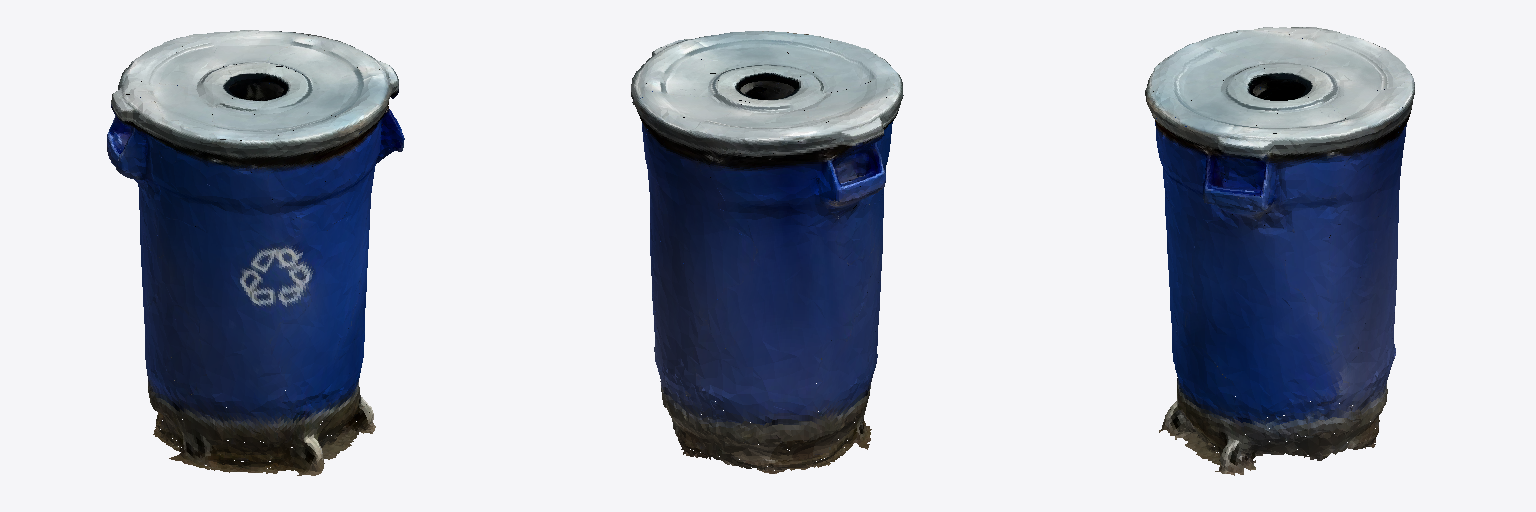
3 views of the same model, side by side, from view 1: azimuth 30°, elevation 25°; view 2: azimuth 150°, elevation 25°; view 3: azimuth 270°, elevation 25° (orthographic).
Visible parts, largest first — view 1: poly.001; view 2: poly.001; view 3: poly.001.
Part boxes in pixels (x1,y1,x2,y2): poly.001: (107, 30, 404, 475); poly.001: (631, 31, 903, 473); poly.001: (1145, 27, 1414, 475).
Bounding box in the file's own units: 0.6381 × 0.8403 × 0.5837.
Materials: 1 (1 with a texture image).